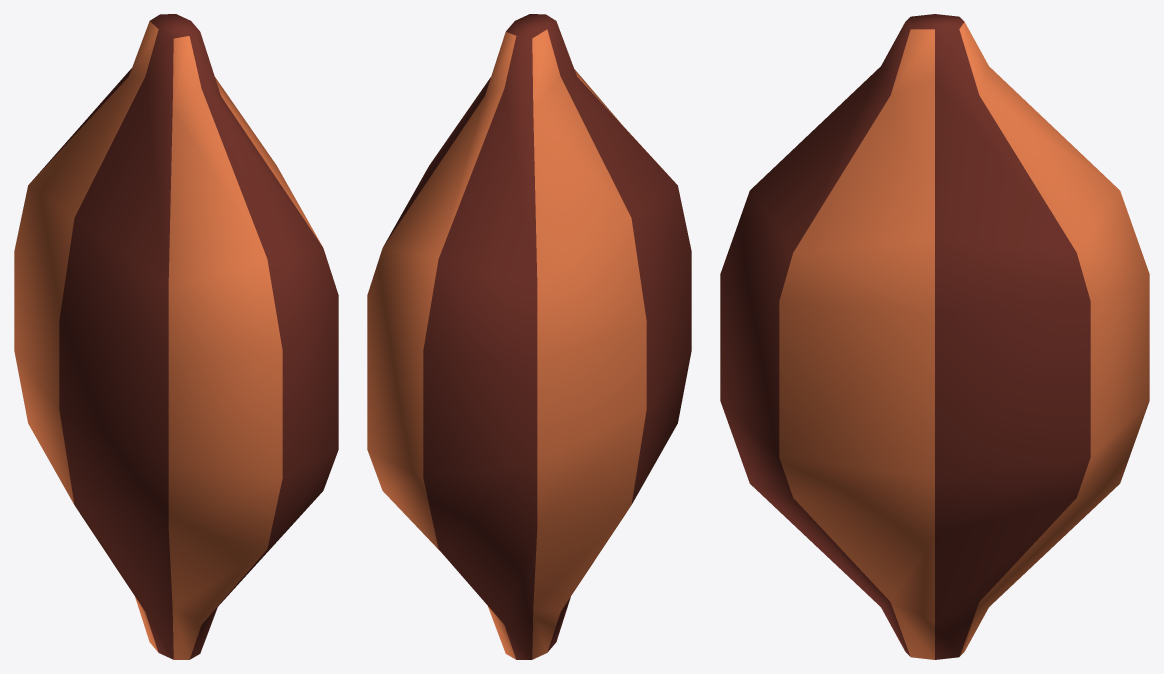
The model's file is agronomy_carrot_seed.fbx.
3 renders of one model, left to right at view 1: azimuth 30°, elevation 25°; view 2: azimuth 150°, elevation 25°; view 3: azimuth 270°, elevation 25°, orthographic.
Parts seen in each view (by area): view 1: carrot_seed; view 2: carrot_seed; view 3: carrot_seed.
Boxes of the visible parts, bbox=[...] form: carrot_seed: bbox=[14, 14, 338, 659]; carrot_seed: bbox=[367, 14, 691, 659]; carrot_seed: bbox=[720, 14, 1149, 659].
Size of the model in its own units: 4.78 by 12.18 by 7.51.
